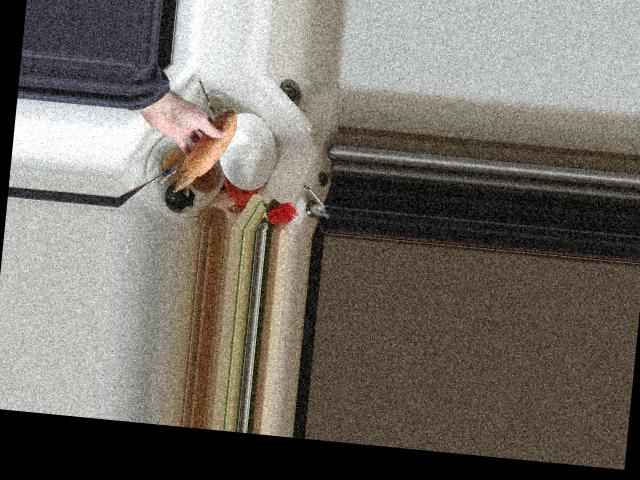sweet_potato: (170, 104, 241, 195)
